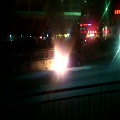fire: (48, 46, 67, 75)
